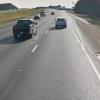Car: (50, 11, 72, 31)
